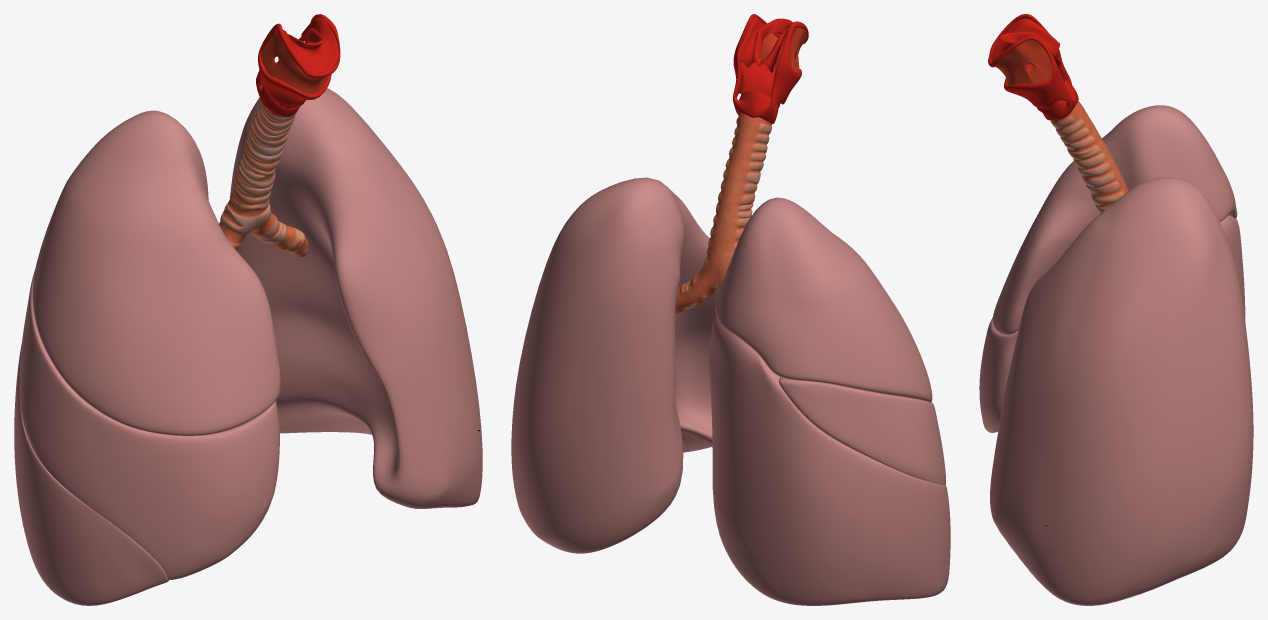
File: pulmon.fbx
3 renders of one model, left to right at view 1: azimuth 30°, elevation 25°; view 2: azimuth 150°, elevation 25°; view 3: azimuth 270°, elevation 25°, orthographic. The views are drawn at different scales.
Visible parts, largest first — view 1: node_id23, node_id17, node_id11, node_id5, node_id8; view 2: node_id23, node_id17, node_id11, node_id5, node_id8; view 3: node_id23, node_id17, node_id11, node_id8, node_id5.
Part boxes in pixels (bbox=[...]): node_id23: bbox=[14, 88, 482, 605]; node_id17: bbox=[219, 98, 308, 257]; node_id11: bbox=[256, 14, 340, 117]; node_id5: bbox=[283, 17, 338, 73]; node_id8: bbox=[261, 17, 338, 93]; node_id23: bbox=[511, 177, 950, 605]; node_id17: bbox=[675, 113, 771, 476]; node_id11: bbox=[733, 14, 808, 123]; node_id5: bbox=[737, 16, 806, 72]; node_id8: bbox=[739, 19, 806, 72]; node_id23: bbox=[979, 105, 1253, 605]; node_id17: bbox=[1050, 101, 1128, 213]; node_id11: bbox=[988, 14, 1078, 120]; node_id8: bbox=[994, 18, 1052, 85]; node_id5: bbox=[991, 18, 1061, 67].
Size of the model in its own units: 0.4265 by 0.512 by 0.2565.
Materials: 7 (1 with a texture image).
